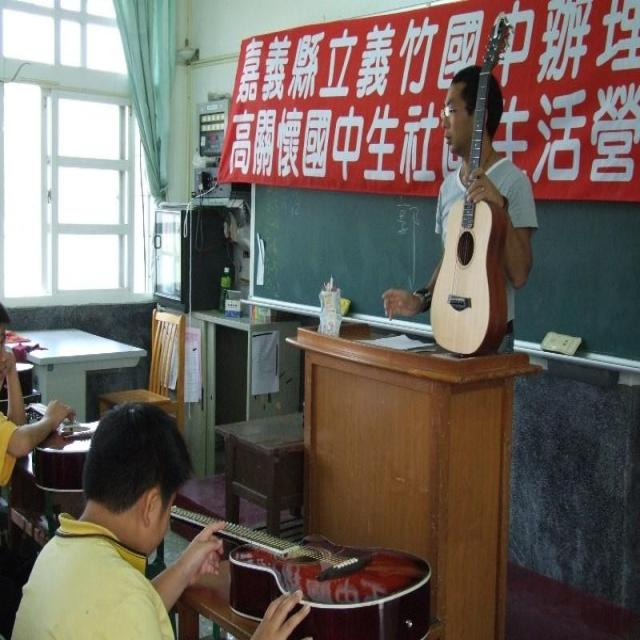guitar: (162, 505, 434, 640), (428, 12, 513, 360), (19, 401, 110, 493)
